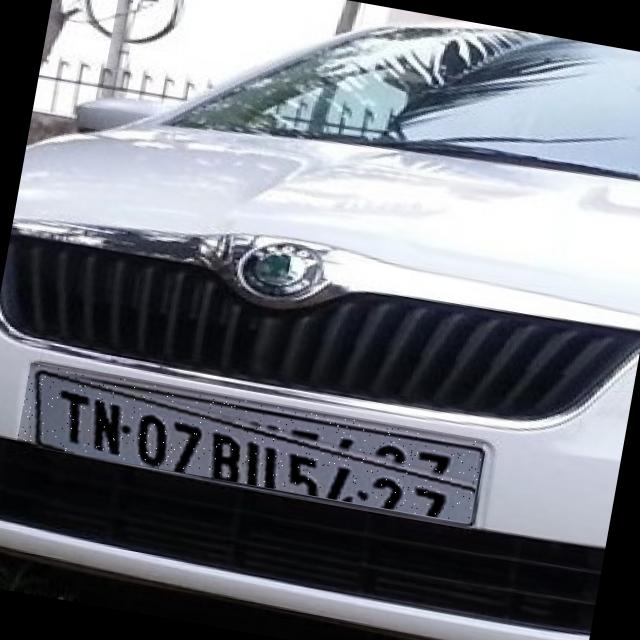Plate: (18, 364, 485, 525)
